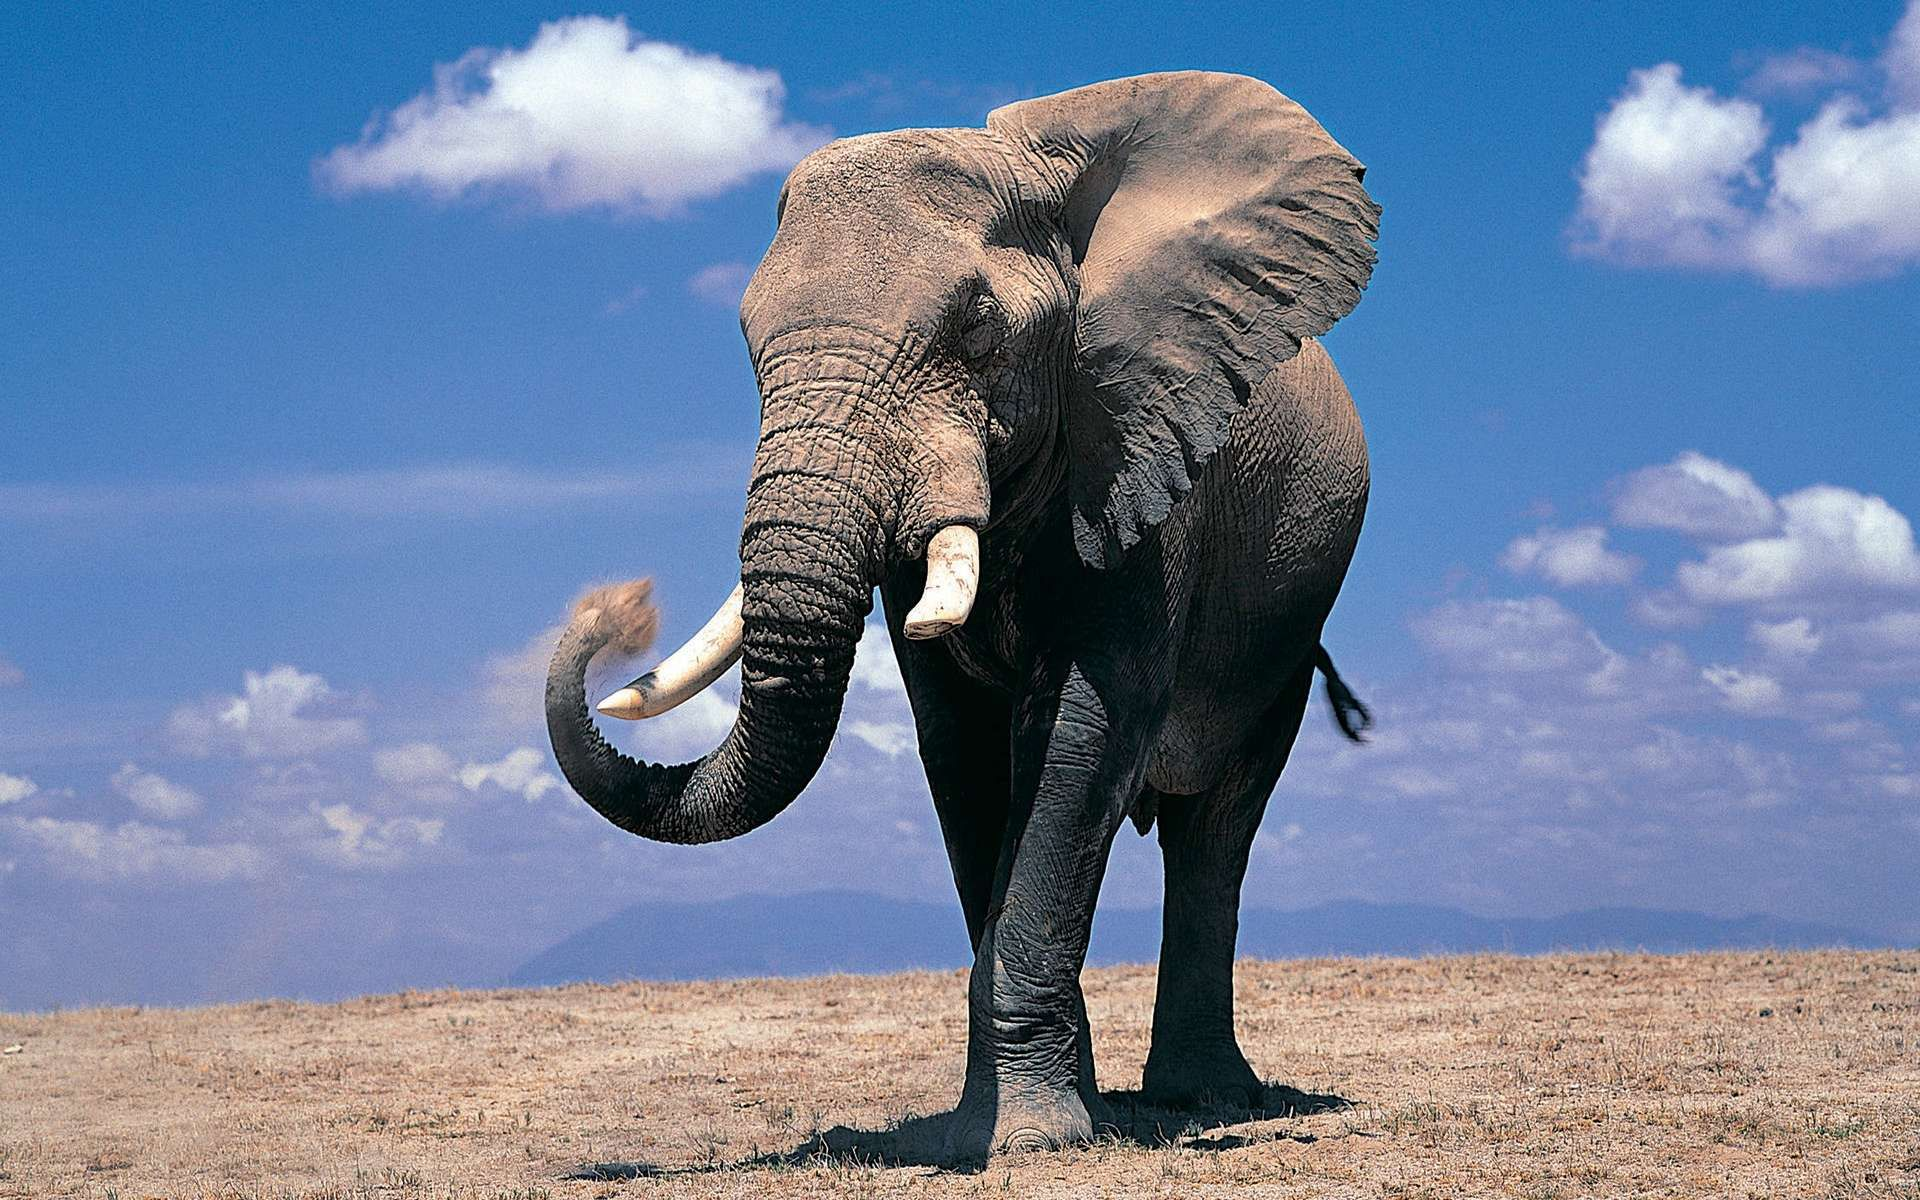africanelephant: (708, 142, 1078, 641)
